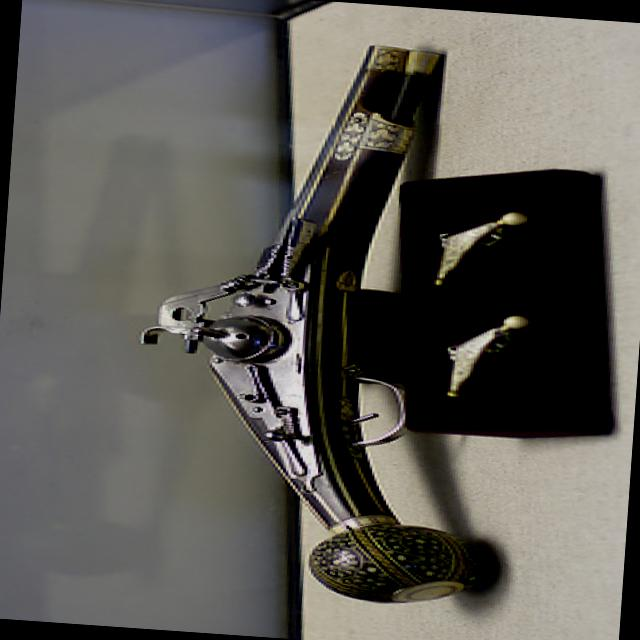handgun: (111, 27, 533, 605)
